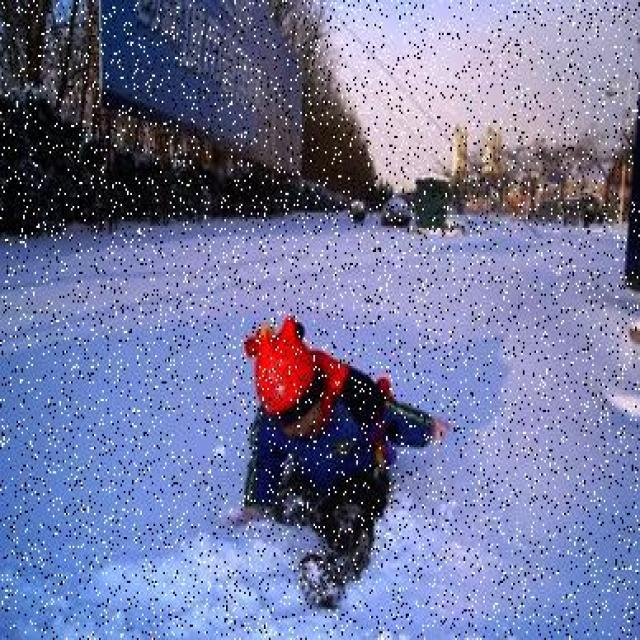fall: (221, 309, 434, 592)
